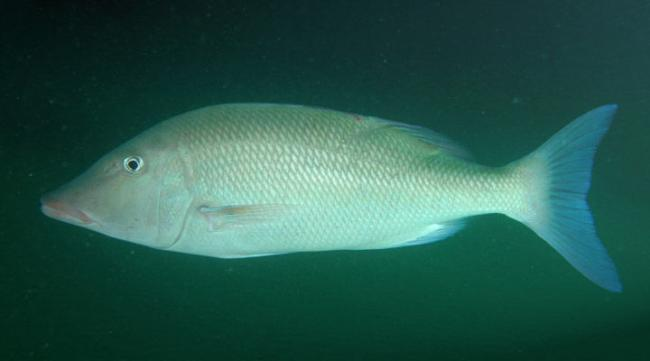fish: (38, 102, 623, 295)
